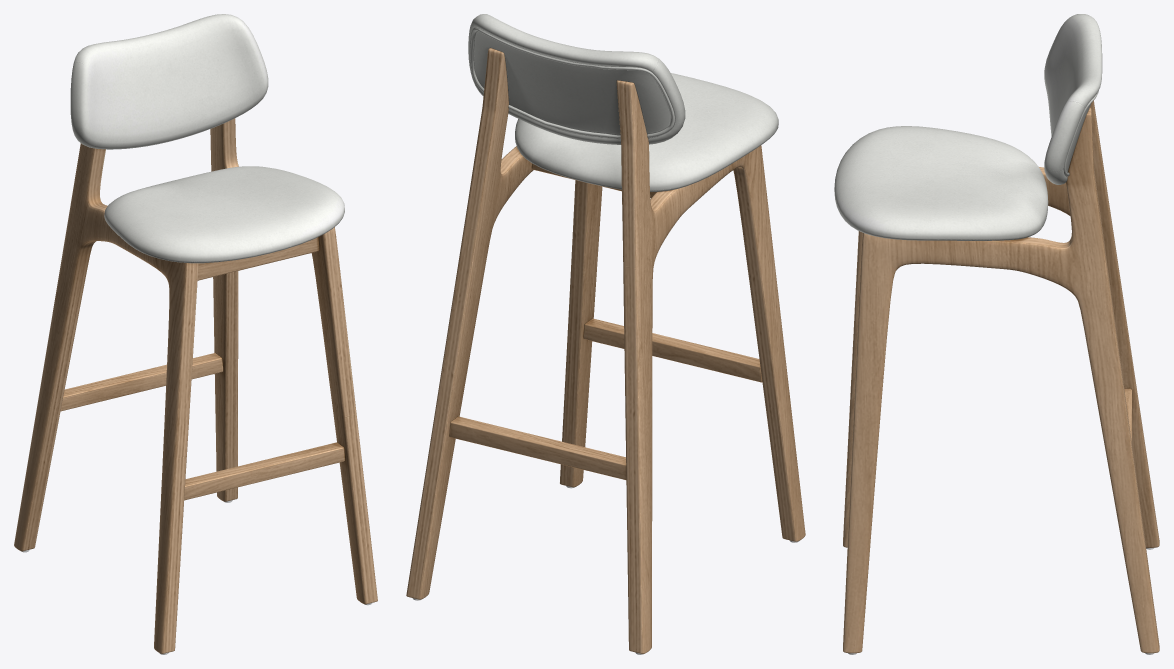
File: jacob_barstool_alabaster_and_ash.glb
3 renders of one model, left to right at view 1: azimuth 30°, elevation 25°; view 2: azimuth 150°, elevation 25°; view 3: azimuth 270°, elevation 25°, orthographic. The views are drawn at different scales.
Visible parts, largest first — view 1: LEATHER, ASH, ASH_EDGE; view 2: ASH, LEATHER, ASH_EDGE; view 3: ASH, LEATHER, ASH_EDGE.
Part boxes in pixels (left/top/right/bottom): LEATHER: left=70, top=14, right=344, bottom=263; ASH: left=14, top=123, right=377, bottom=653; ASH_EDGE: left=23, top=118, right=377, bottom=653; ASH: left=406, top=48, right=805, bottom=653; LEATHER: left=468, top=14, right=778, bottom=191; ASH_EDGE: left=406, top=48, right=795, bottom=653; ASH: left=843, top=101, right=1159, bottom=653; LEATHER: left=834, top=14, right=1102, bottom=240; ASH_EDGE: left=843, top=100, right=1159, bottom=651.
Size of what is drawn, in the model's own units: 42.91 by 97.16 by 52.16.
Materials: 4 (3 with a texture image).
